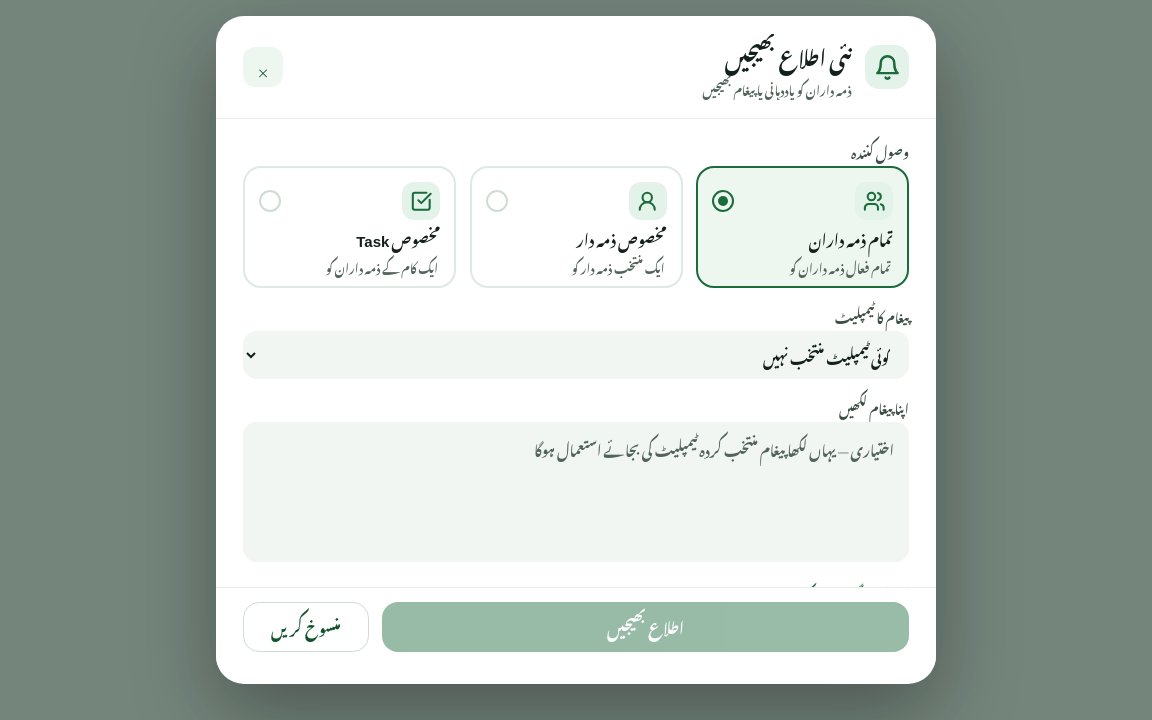
Test case: SendNotificationDialog › enables submit once a template is chosen for the default "all" recipient type
Select "عمومی یاد دہانی" in the dropdown labelled "پیغام کا ٹیمپلیٹ": point(576, 355) [243,331,909,379]
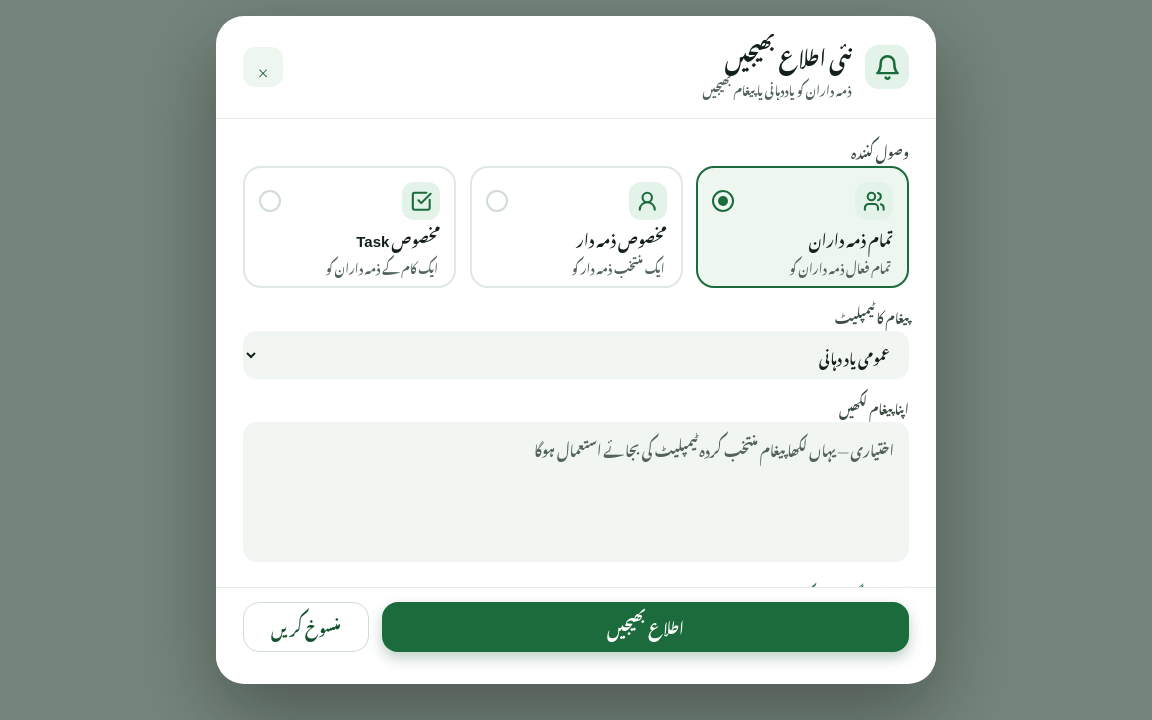
Now the button "اطلاع بھیجیں" is enabled, box [382,602,909,652]
